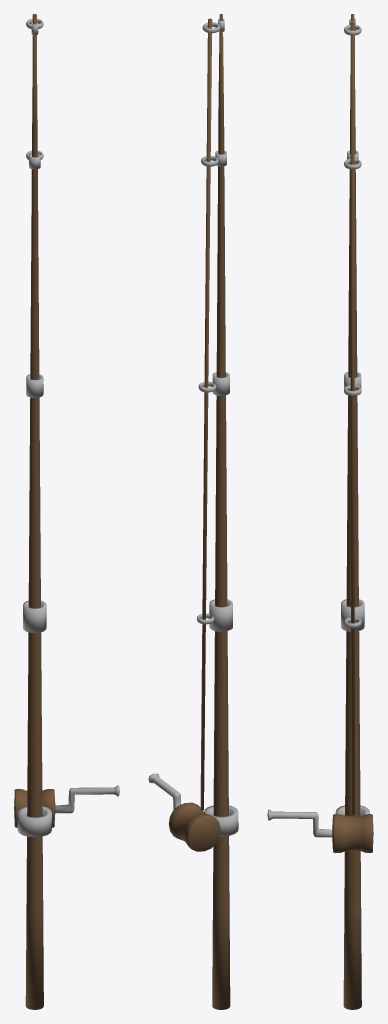
The model's file is fishingrod.fbx.
The picture shows the model from 3 angles, left to right: view 1: azimuth 90°, elevation 25°; view 2: azimuth 210°, elevation 25°; view 3: azimuth 270°, elevation 25°; orthographic projection.
Visible parts, largest first — view 1: Fishing rod; view 2: Fishing rod; view 3: Fishing rod.
Boxes of the visible parts, left/top/right/bottom form: Fishing rod: left=14, top=14, right=119, bottom=1009; Fishing rod: left=148, top=14, right=238, bottom=1009; Fishing rod: left=267, top=14, right=373, bottom=1009.
Bounding box in the file's own units: 16.66 × 271 × 26.27.
